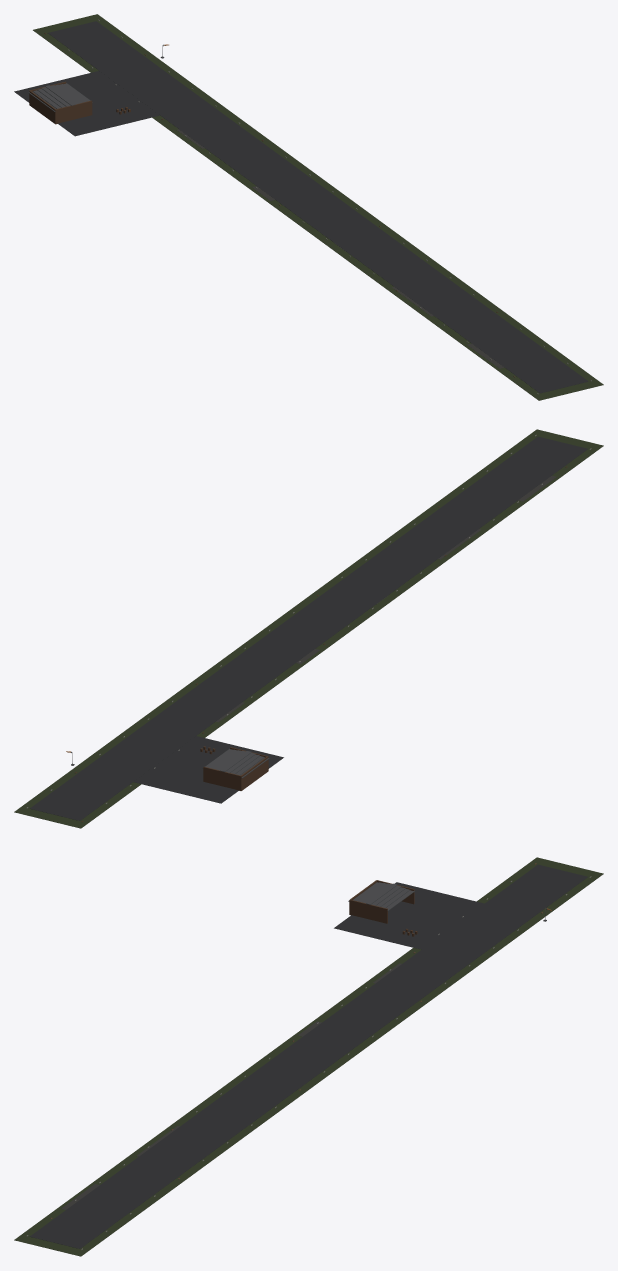
Rendered from airstrip_v1.glb.
3 renders of one model, top to bottom at view 1: azimuth 30°, elevation 25°; view 2: azimuth 150°, elevation 25°; view 3: azimuth 330°, elevation 25°, orthographic. The views are drawn at different scales.
Visible parts, largest first — view 1: Airstrip, Hangar_Wall_R; view 2: Airstrip, Hangar_Wall_L; view 3: Airstrip, Hangar_Wall_R.
Part boxes in pixels (<box>): Airstrip: <box>14,14,603,400</box>; Hangar_Wall_R: <box>55,100,92,124</box>; Airstrip: <box>14,429,603,828</box>; Hangar_Wall_L: <box>203,766,241,790</box>; Airstrip: <box>14,857,603,1256</box>; Hangar_Wall_R: <box>349,899,387,923</box>.
Size of the model in its own units: 76.72 by 7.14 by 432.
